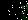person: (22, 2, 27, 13)
